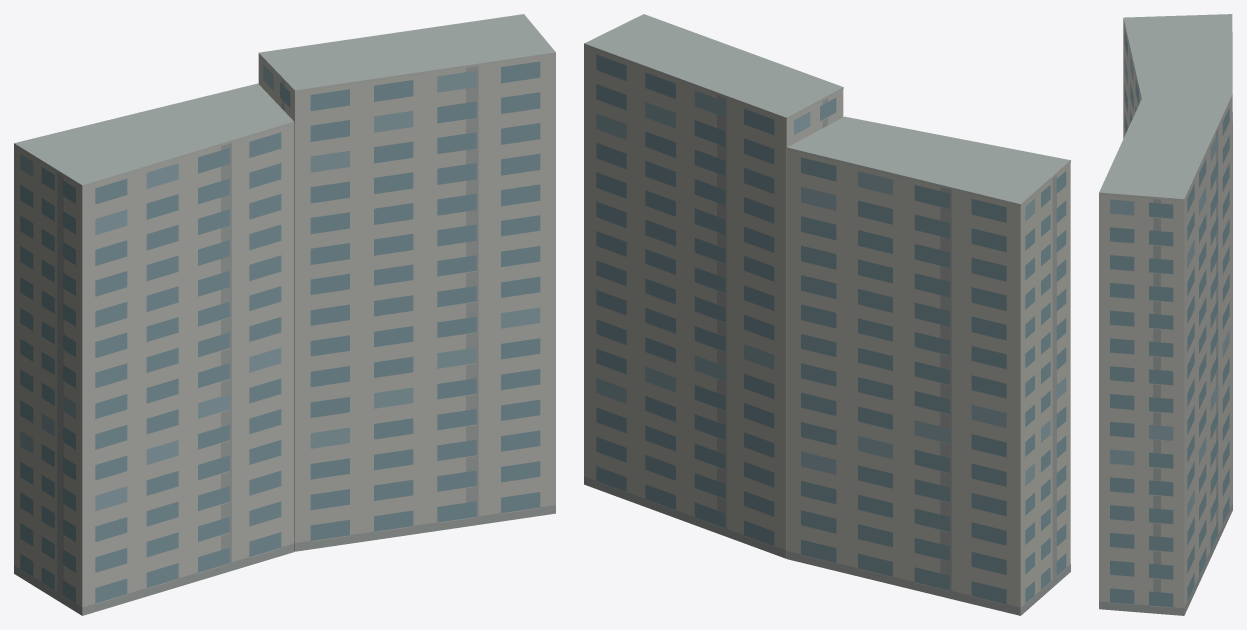
File: residential-8465cefb-2138-46b3-995b-e8dca5d1314e.glb
3 renders of one model, left to right at view 1: azimuth 30°, elevation 25°; view 2: azimuth 150°, elevation 25°; view 3: azimuth 270°, elevation 25°, orthographic. The views are drawn at different scales.
Parts seen in each view (by area): view 1: residential-8465cefb-2138-46b3-995b-e8dca5d1314e.tmp; view 2: residential-8465cefb-2138-46b3-995b-e8dca5d1314e.tmp; view 3: residential-8465cefb-2138-46b3-995b-e8dca5d1314e.tmp.
Part boxes in pixels (box(x1,y1,x2,y2)): residential-8465cefb-2138-46b3-995b-e8dca5d1314e.tmp: box(14, 14, 555, 615); residential-8465cefb-2138-46b3-995b-e8dca5d1314e.tmp: box(584, 14, 1070, 615); residential-8465cefb-2138-46b3-995b-e8dca5d1314e.tmp: box(1099, 14, 1232, 615).
Size of the model in its own units: 50.17 by 45.75 by 13.33.
